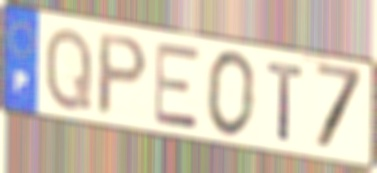7: (313, 59, 365, 158)
E: (153, 41, 201, 133)
O: (204, 47, 259, 142)
P: (94, 30, 151, 120)
Q: (42, 24, 94, 114)
T: (265, 58, 306, 145)
